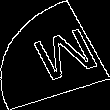M_S: (14, 23, 96, 87)
